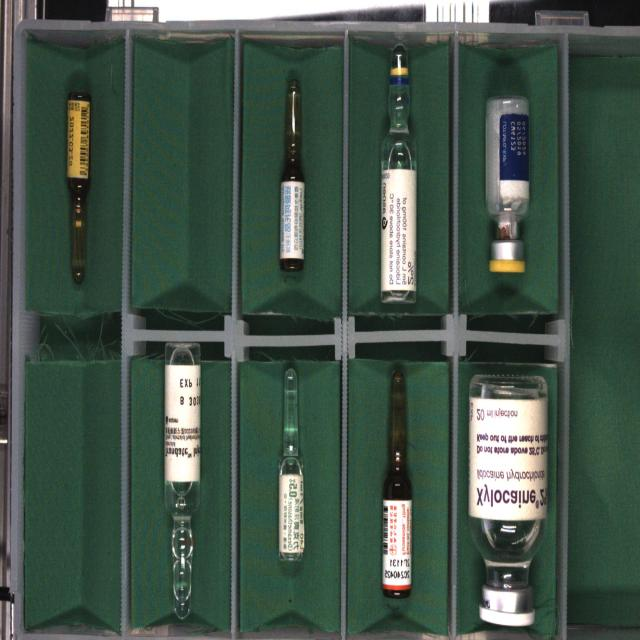Vials: (468, 375, 548, 626), (486, 97, 529, 273)
